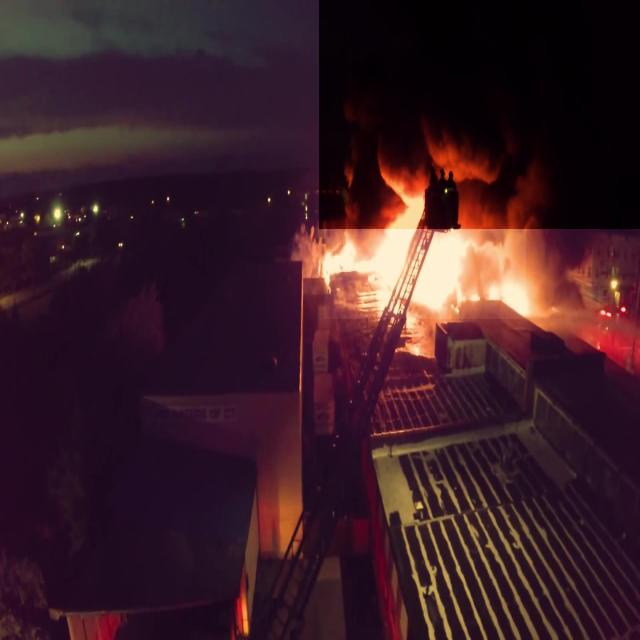Fire: (324, 212, 526, 319)
Smoke: (319, 0, 640, 229)
